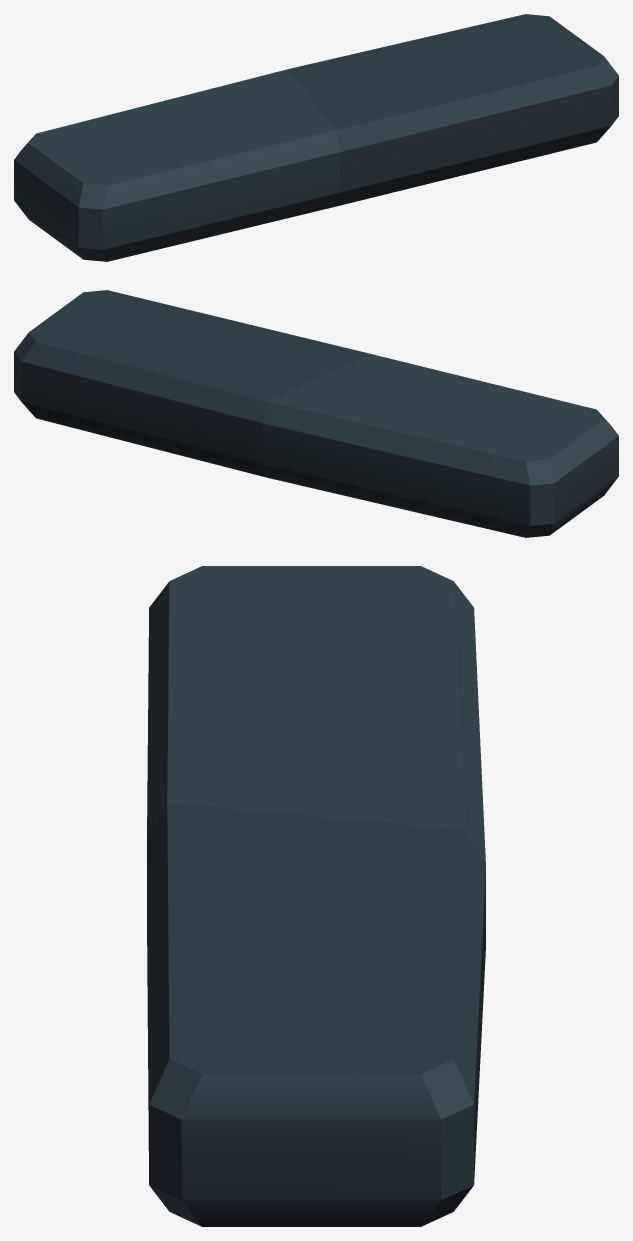
The model's file is floor_divider_1.fbx.
The picture shows the model from 3 angles, top to bottom: view 1: azimuth 30°, elevation 25°; view 2: azimuth 150°, elevation 25°; view 3: azimuth 270°, elevation 25°; orthographic projection. The views are drawn at different scales.
Visible parts, largest first — view 1: floor_divider_1; view 2: floor_divider_1; view 3: floor_divider_1.
Boxes of the visible parts, x1,y1,x2,y2 form: floor_divider_1: [14, 14, 618, 261]; floor_divider_1: [14, 290, 618, 537]; floor_divider_1: [147, 566, 485, 1226].
Bounding box in the file's own units: 210 × 28.34 × 57.03.
